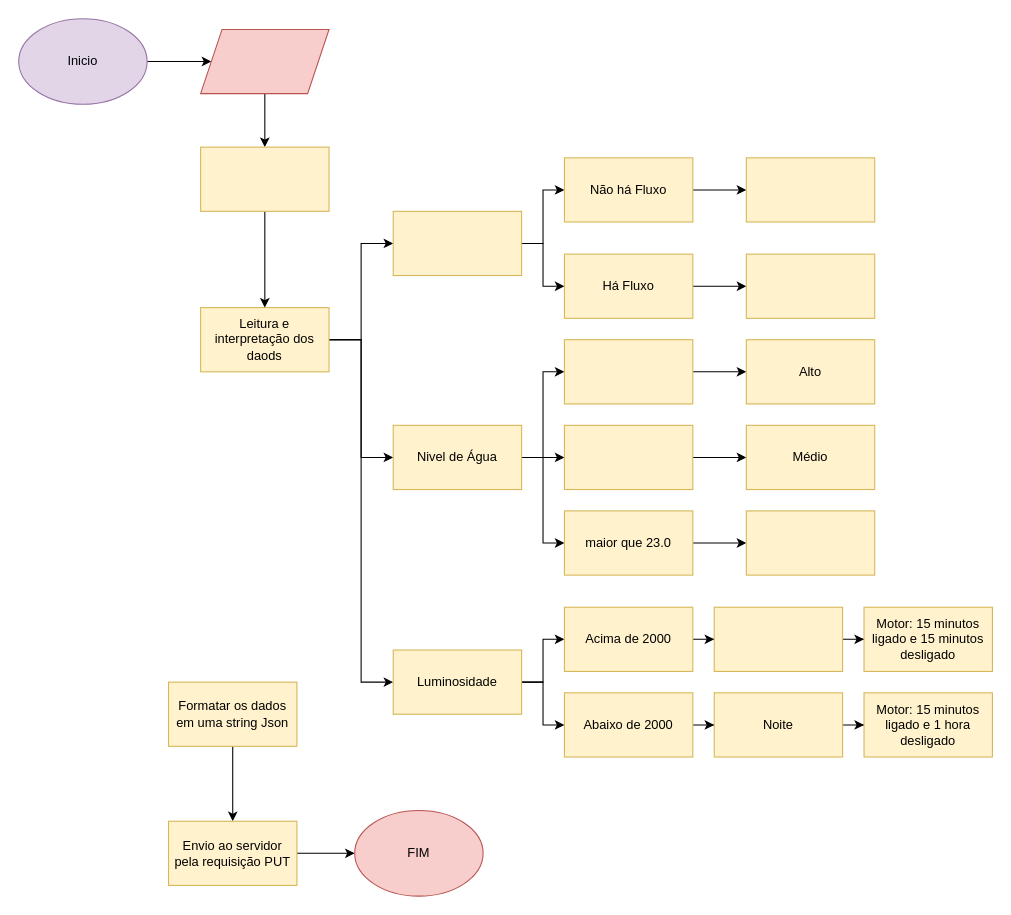
The diagram is 1011 pixels wide and 915 high, and some of its shapes have lost their labels. The centre of each missing label's shape, as x and y in pixels:
"Baixo" goes at (810,542).
"Captura dos dados" goes at (264,178).
"Dia" goes at (778,638).
"Fluxo de agua" goes at (457,243).
"Inicialização dos sensores" goes at (264,61).
"menor ou igual a 11.5" goes at (628,371).
"menor ou igual a 23.0 e maior que 11.5" goes at (628,457).
"Motor desligado" goes at (810,189).
"Motor Ligado" goes at (810,285).
